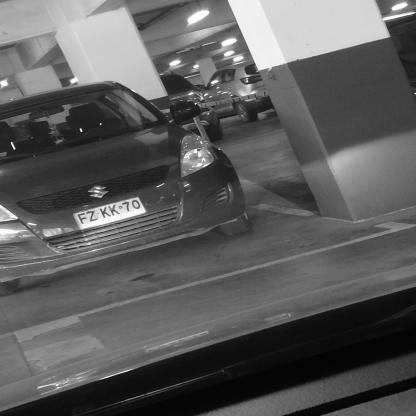Patente: (75, 196, 148, 230)
